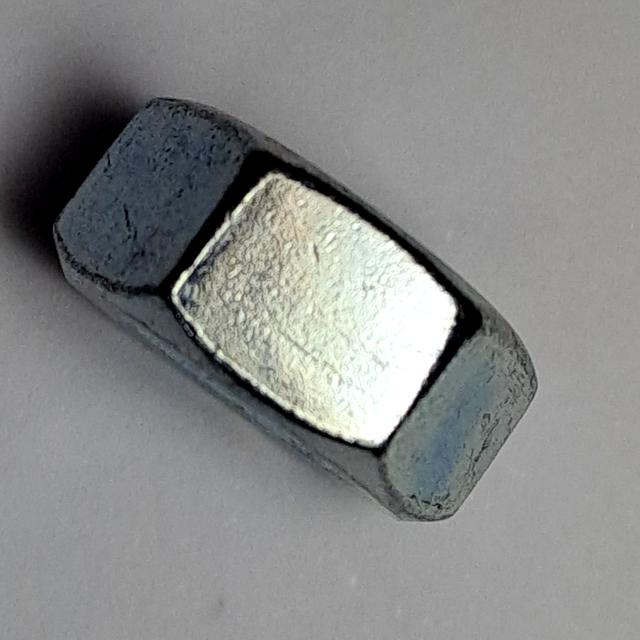Side_Excellent: (42, 87, 569, 536)
